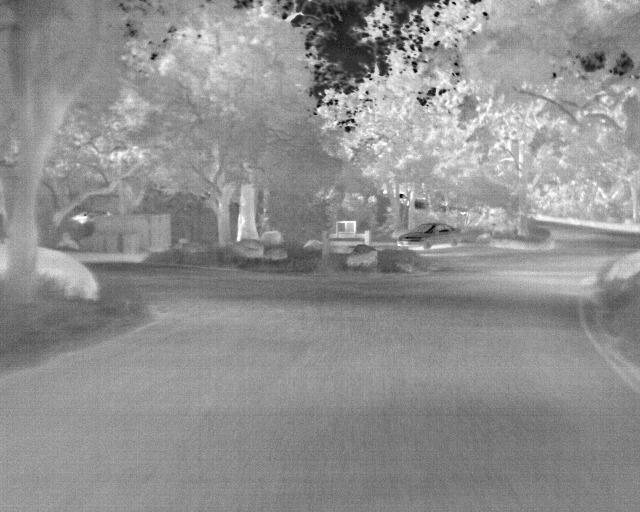car: (396, 221, 465, 252)
